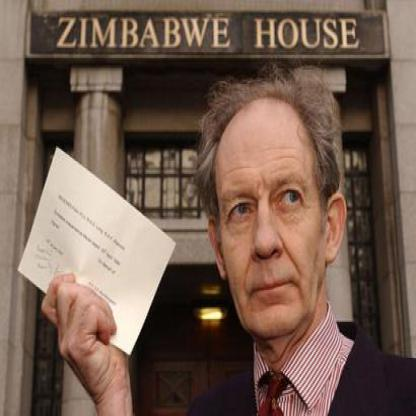face: (215, 95, 329, 342)
